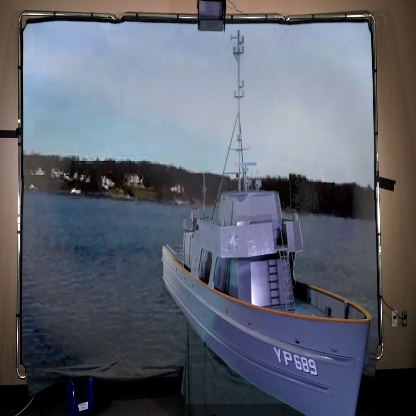YP689: (160, 28, 372, 416)
